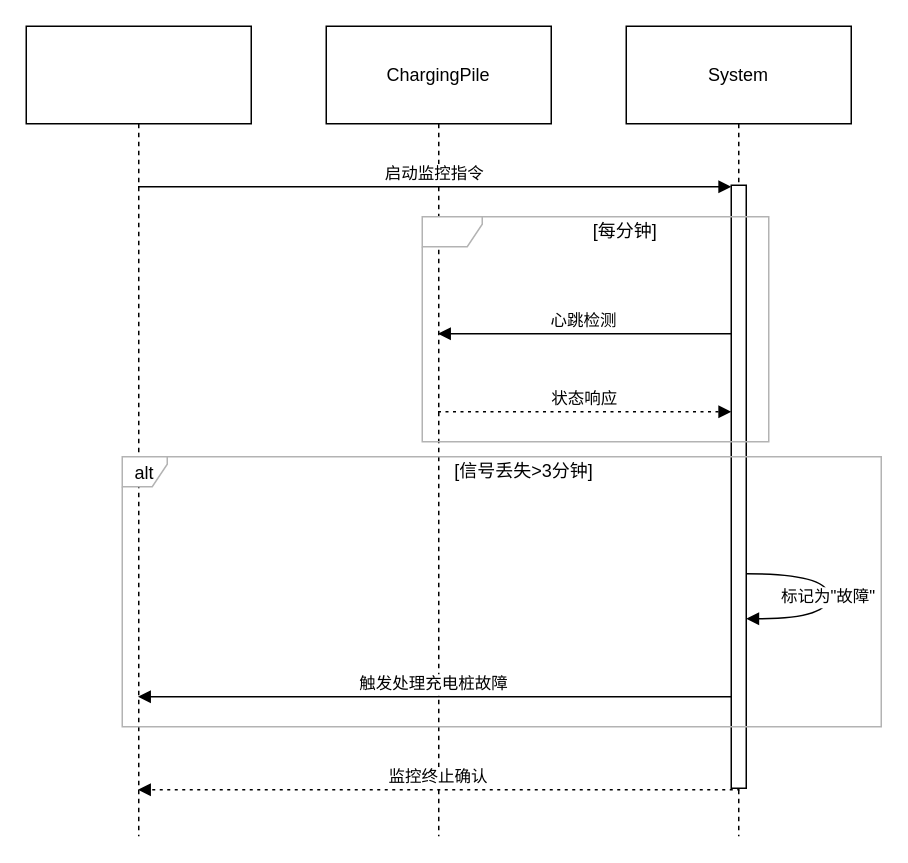
This 908x863 diagram has some shape labels left out. Each missing label, with the box of its shape:
loop: (421, 215, 769, 442)
Server: (25, 25, 251, 836)
